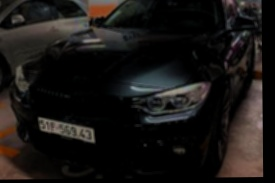Bien-so: (38, 117, 95, 144)
